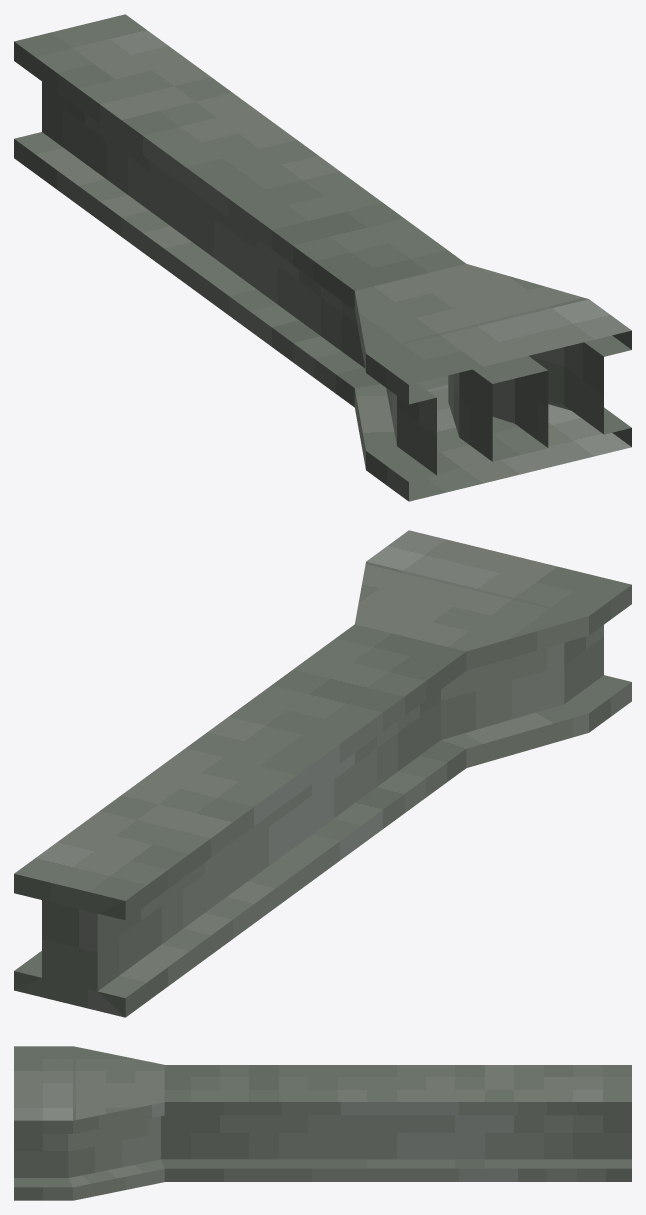
The model's file is power_line_bracket_on_fence2.obj.
3 renders of one model, top to bottom at view 1: azimuth 30°, elevation 25°; view 2: azimuth 150°, elevation 25°; view 3: azimuth 270°, elevation 25°, orthographic. The views are drawn at different scales.
Visible parts, largest first — view 1: b3.004; view 2: b3.004; view 3: b3.004.
Part boxes in pixels (x1,y1,x2,y2): b3.004: (14, 14, 631, 501); b3.004: (14, 530, 631, 1017); b3.004: (14, 1046, 631, 1200).
Bounding box in the file's own units: 0.375 × 0.1875 × 1.31.
